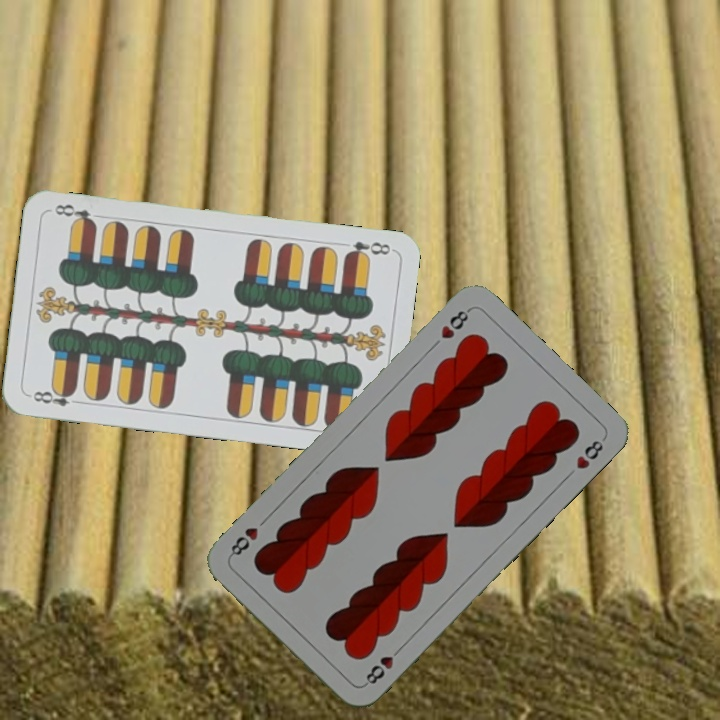E8: (29, 384, 85, 409), (340, 237, 393, 262)
H8: (360, 642, 405, 689), (436, 304, 474, 342)
